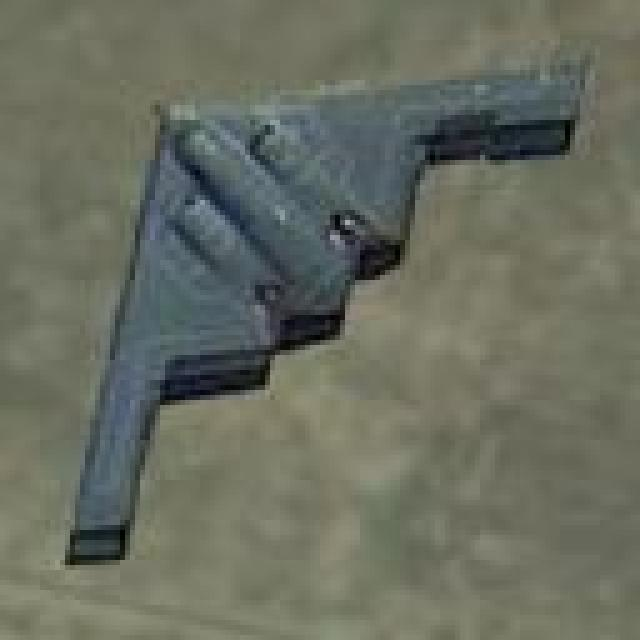B-2_TopDown: (60, 40, 595, 565)
